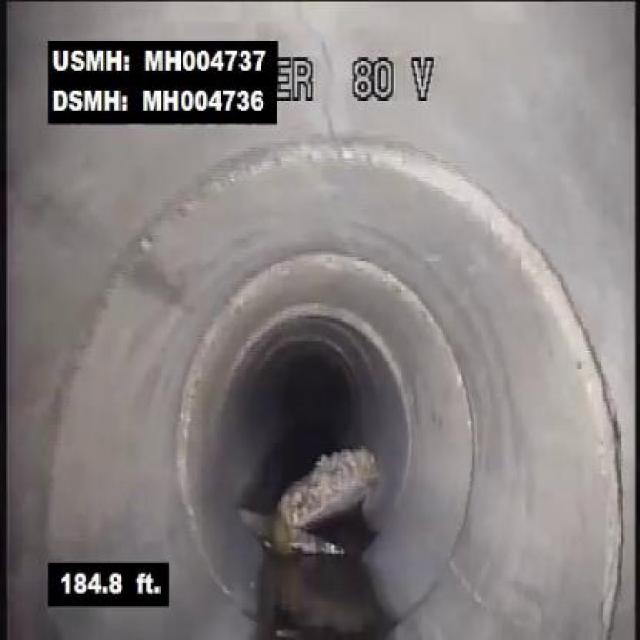Obstacle: (251, 438, 380, 570)
